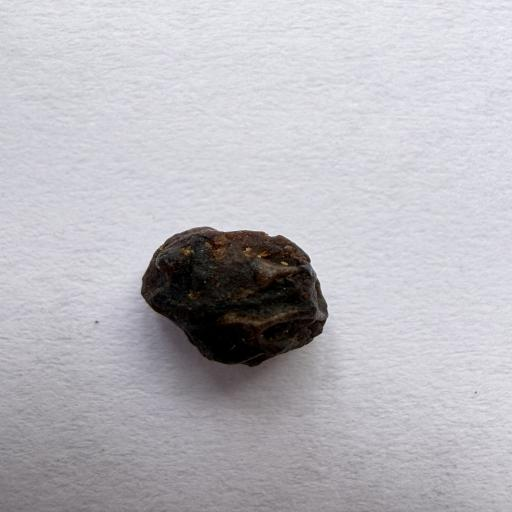Black_pepper: (107, 214, 371, 372)
